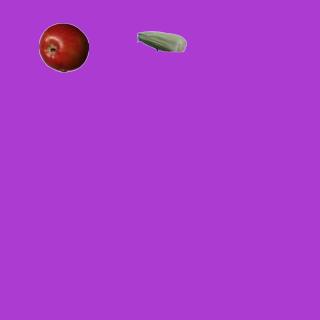Apple Braeburn: (38, 22, 88, 72)
Corn Husk: (136, 16, 186, 66)
